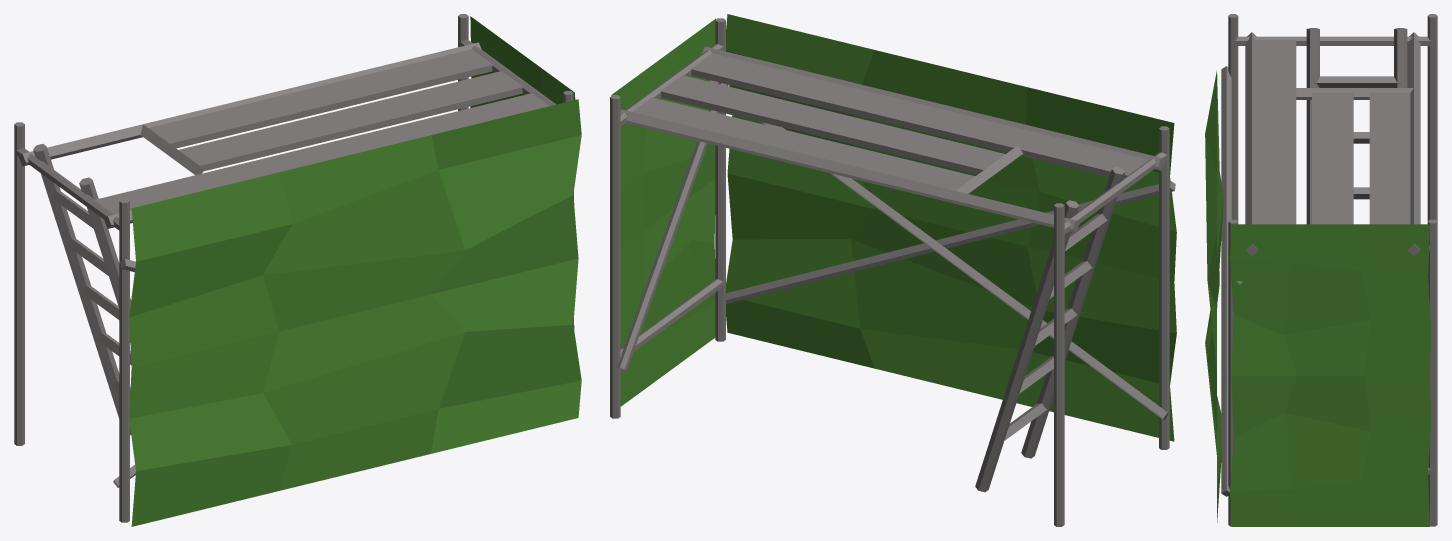
File: construction-scaffolding-ladder-end-covered.glb
The picture shows the model from 3 angles, left to right: view 1: azimuth 30°, elevation 25°; view 2: azimuth 150°, elevation 25°; view 3: azimuth 270°, elevation 25°; orthographic projection. The views are drawn at different scales.
Parts seen in each view (by area): view 1: scaffolding-ladder-end-covered; view 2: scaffolding-ladder-end-covered; view 3: scaffolding-ladder-end-covered.
Boxes of the visible parts, x1,y1,x2,y2 form: scaffolding-ladder-end-covered: (14, 14, 581, 526); scaffolding-ladder-end-covered: (610, 14, 1176, 526); scaffolding-ladder-end-covered: (1205, 14, 1437, 526).
Bounding box in the file's own units: 3.01 × 2.01 × 1.39.
